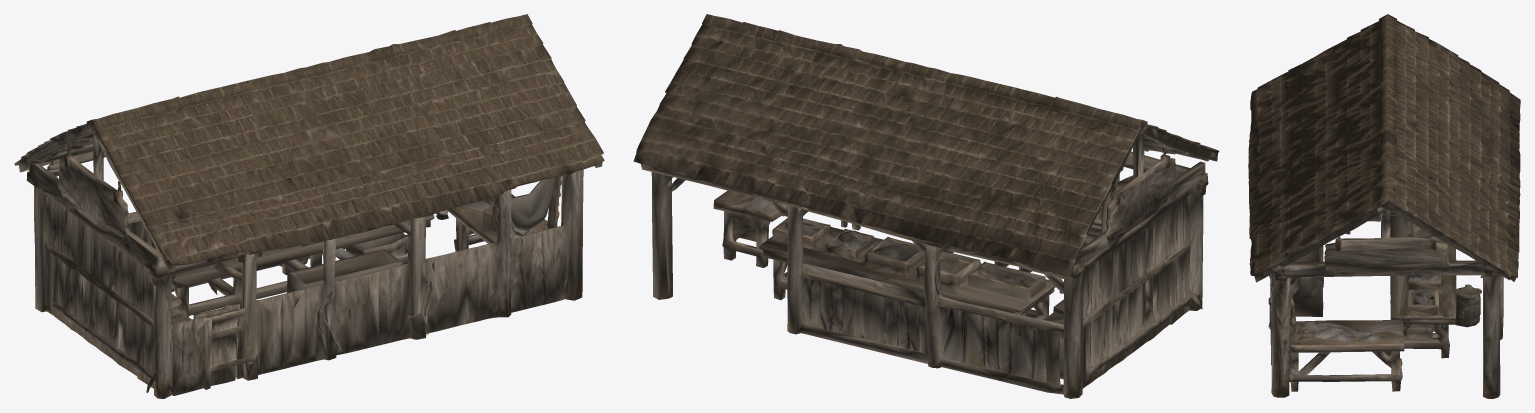
Rendered from skup_ryb.glb.
3 views of the same model, side by side, from view 1: azimuth 30°, elevation 25°; view 2: azimuth 150°, elevation 25°; view 3: azimuth 270°, elevation 25° (orthographic). The views are drawn at different scales.
Parts seen in each view (by area): view 1: Mesh_0; view 2: Mesh_0; view 3: Mesh_0.
Boxes of the visible parts, x1=… form: Mesh_0: x1=14, y1=14, x2=604, y2=398; Mesh_0: x1=633, y1=14, x2=1219, y2=398; Mesh_0: x1=1248, y1=14, x2=1520, y2=398.
Bounding box in the file's own units: 1.91 × 0.9797 × 1.17.
Materials: 1 (1 with a texture image).
